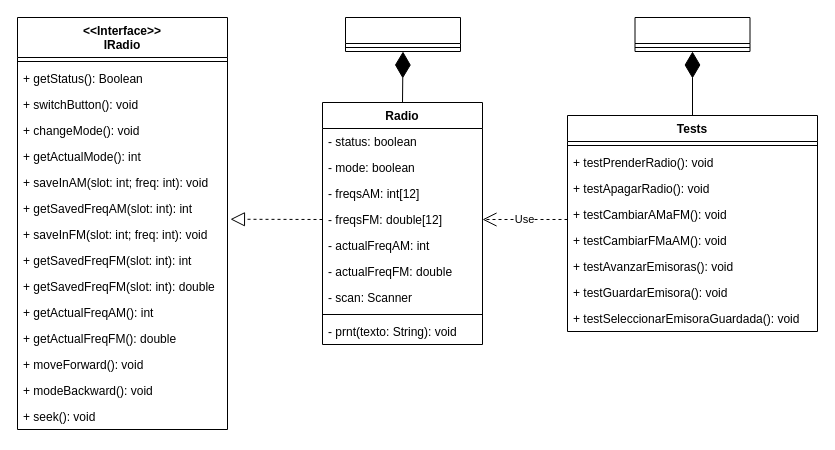
This 835x450 diagram has some shape labels left out. The shapes that lost their labels are listed below. From the top down, each one's centre as x and y in pixels, then its label:
point 402,34: Scanner
point 692,34: JUnit
